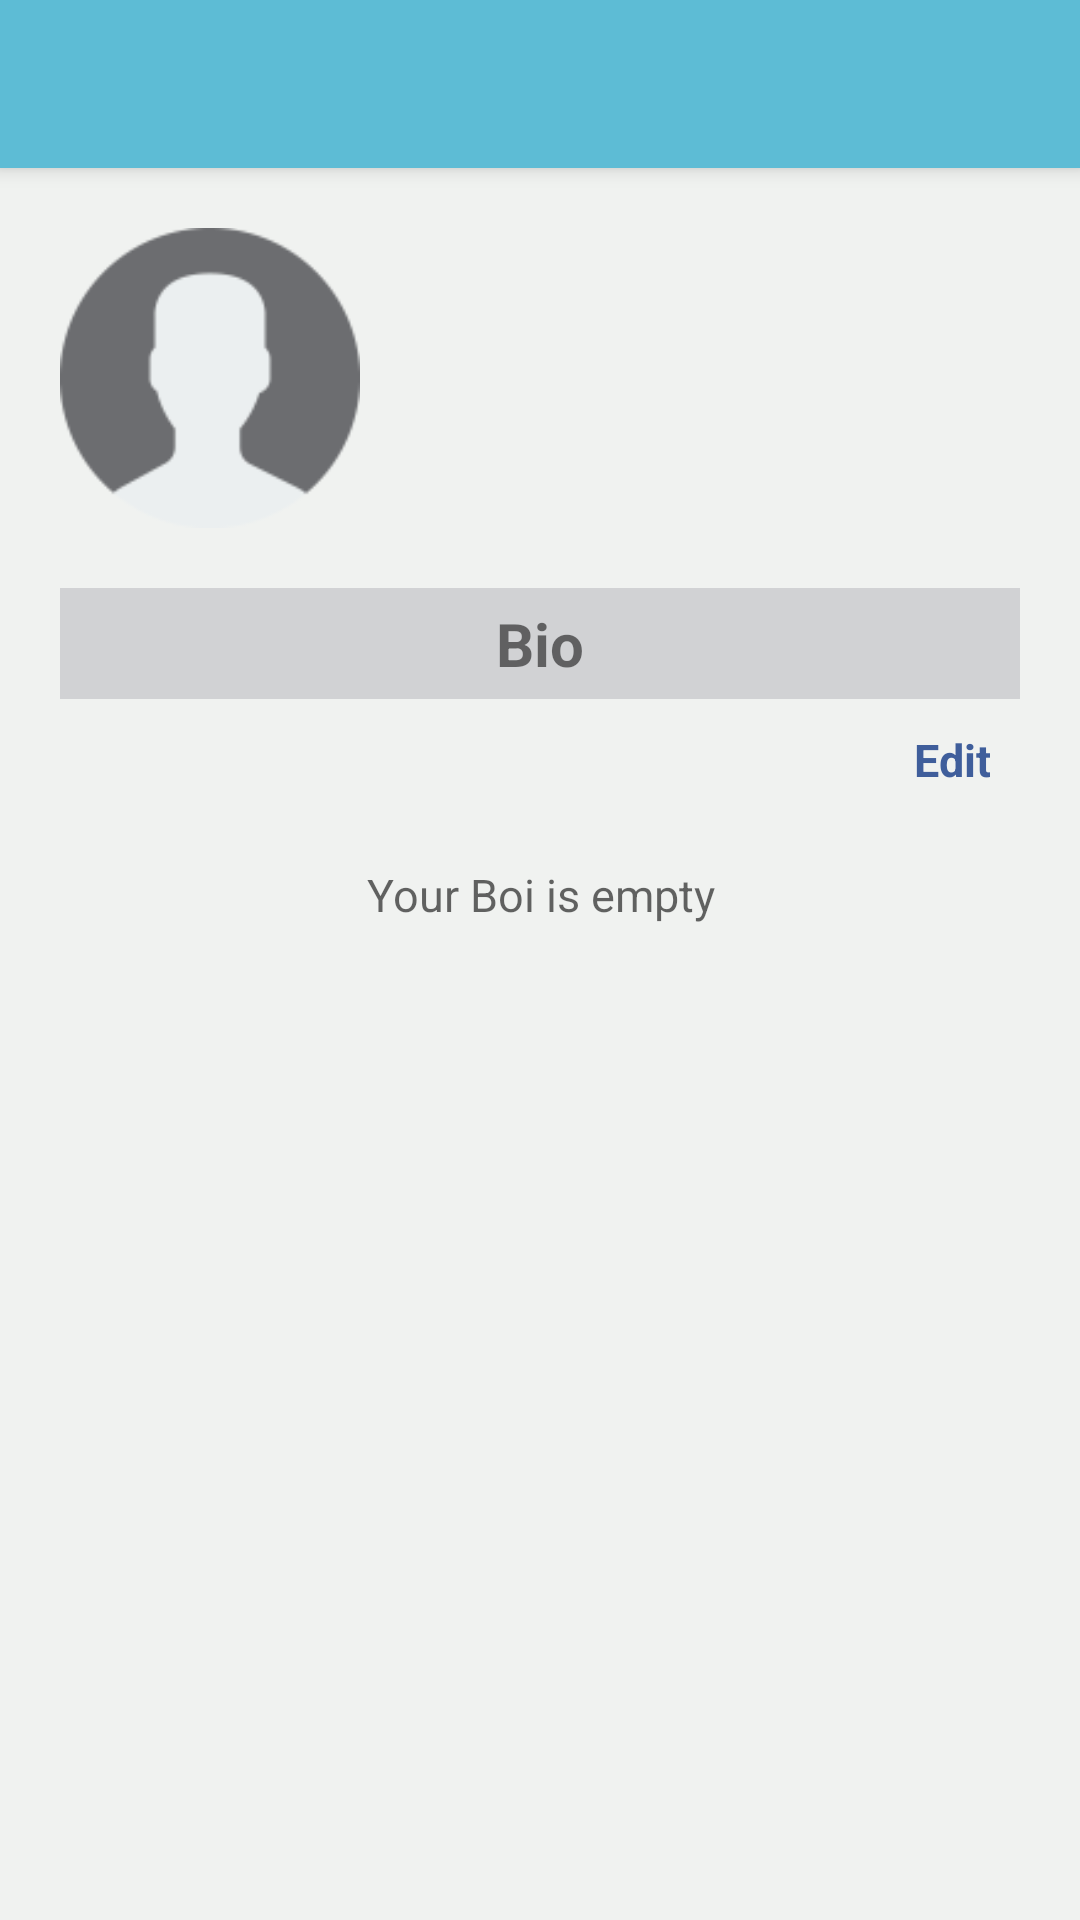

Icon bounding boxes for this 1080w x 1920h phone screenshot, format bbox(x1, y1, x2, y2):
placeholderperson: bbox(60, 228, 360, 494)
